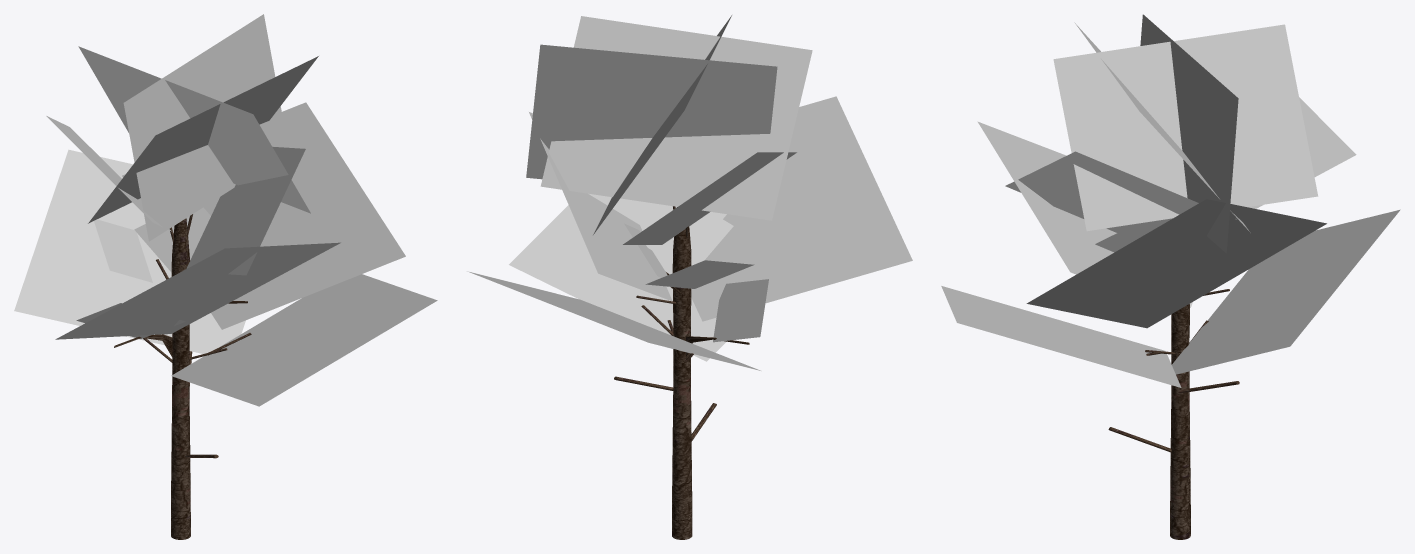
Rendered from MedTree.fbx.
The picture shows the model from 3 angles, left to right: view 1: azimuth 30°, elevation 25°; view 2: azimuth 150°, elevation 25°; view 3: azimuth 270°, elevation 25°; orthographic projection. The views are drawn at different scales.
Parts seen in each view (by area): view 1: pPlane3, pPlane4, pPlane6, pPlane7, pPlane5, pPlane8, tree_base1, pPlane9, pPlane2, pPlane12, pPlane11, pPlane1; view 2: pPlane5, pPlane9, pPlane7, pPlane6, tree_base1, pPlane3, pPlane4, pPlane1, pPlane13, pPlane2, pPlane8, pPlane12 (+1 smaller); view 3: pPlane8, pPlane3, pPlane4, pPlane7, pPlane6, pPlane5, tree_base1, pPlane2, pPlane1, pPlane9.
Boxes of the visible parts, x1,y1,x2,y2 form: pPlane3: (122, 102, 405, 329); pPlane4: (14, 149, 245, 353); pPlane6: (171, 274, 437, 406); pPlane7: (123, 14, 281, 241); pPlane5: (55, 242, 340, 339); pPlane8: (78, 46, 310, 213); tree_base1: (114, 214, 251, 539); pPlane9: (88, 56, 318, 223); pPlane2: (186, 146, 305, 275); pPlane12: (94, 219, 152, 282); pPlane11: (134, 207, 210, 272); pPlane1: (46, 116, 173, 232); pPlane5: (691, 96, 912, 321); pPlane9: (540, 16, 812, 220); pPlane7: (526, 44, 777, 179); pPlane6: (509, 205, 726, 361); tree_base1: (614, 206, 749, 539); pPlane3: (529, 112, 672, 301); pPlane4: (467, 271, 760, 370); pPlane1: (623, 152, 796, 244); pPlane13: (713, 279, 768, 342); pPlane2: (588, 193, 726, 255); pPlane8: (593, 15, 731, 234); pPlane12: (645, 260, 754, 288); pPlane8: (1053, 24, 1318, 231); pPlane3: (1026, 199, 1326, 328); pPlane4: (1172, 209, 1400, 374); pPlane7: (1140, 14, 1238, 252); pPlane6: (941, 286, 1181, 387); pPlane5: (977, 121, 1116, 274); tree_base1: (1108, 289, 1239, 539); pPlane2: (1005, 151, 1236, 236); pPlane1: (1247, 97, 1356, 208); pPlane9: (1074, 22, 1250, 232).
Size of the model in its own units: 795 by 1043 by 881.
